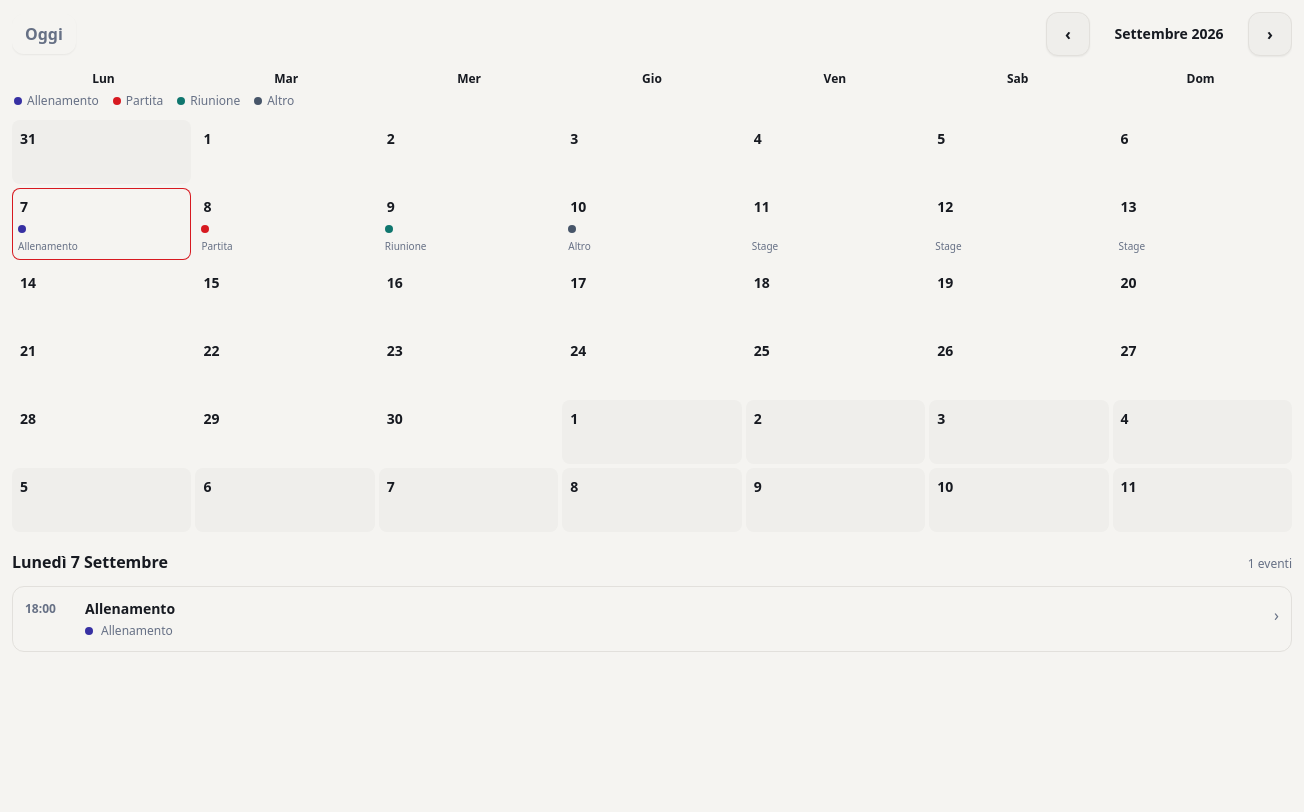
Scenario: MonthlyMobileCalendar › renders every supported kind, keeps an unknown kind textual, and repeats multiday events
Expected: the number of elements with class "cs-mobile-month-calendar__indicator" is 4, [18, 225, 26, 233]; [201, 225, 209, 233]; [385, 225, 393, 233]; [568, 225, 576, 233]
Expected: the text "Stage" is shown 3 times, [752, 239, 778, 253]; [935, 239, 962, 253]; [1119, 239, 1145, 253]
What coordinates should you click on to do the following:
click the button with aria-label "venerdì 11 settembre, 1 eventi"
I would click on:
 (835, 224)
Its box is [746, 188, 925, 260].
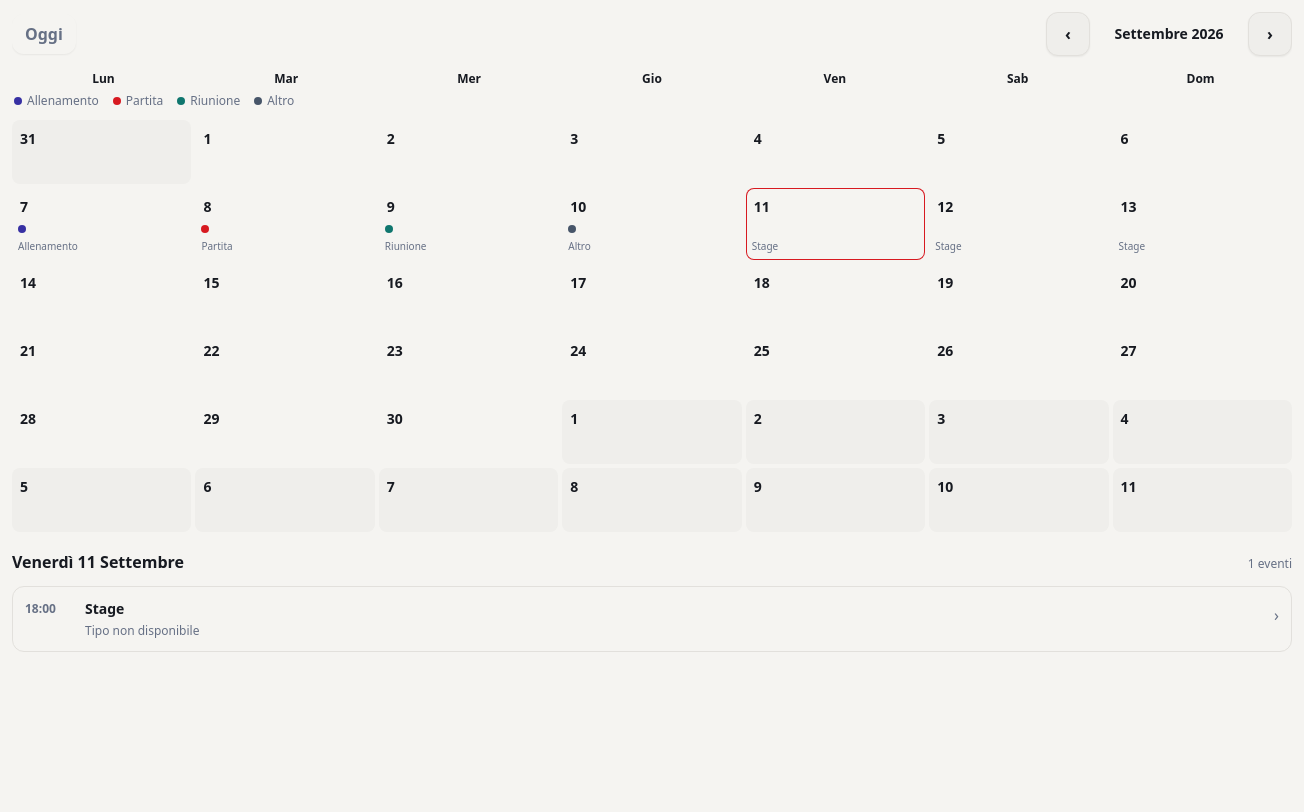
Expected: the text "Tipo non disponibile" is shown, [85, 623, 200, 639]
